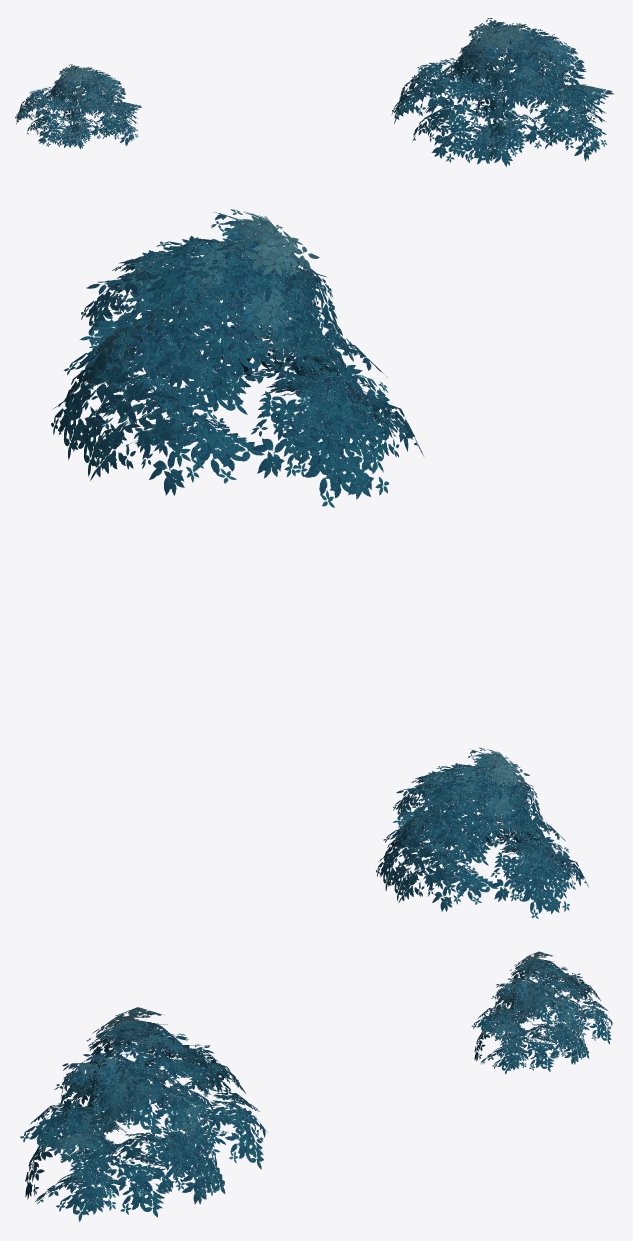
Rendered from Area13_12.FBX.
The picture shows the model from 3 angles, top to bottom: view 1: azimuth 30°, elevation 25°; view 2: azimuth 150°, elevation 25°; view 3: azimuth 270°, elevation 25°; orthographic projection. The views are drawn at different scales.
Parts seen in each view (by area): view 1: Area13_12; view 2: Area13_12; view 3: Area13_12.
Boxes of the visible parts, <box> form: Area13_12: <box>15,18,614,166</box>; Area13_12: <box>51,209,588,918</box>; Area13_12: <box>20,951,612,1221</box>.
Size of the model in its own units: 3988 by 1478 by 3786.
